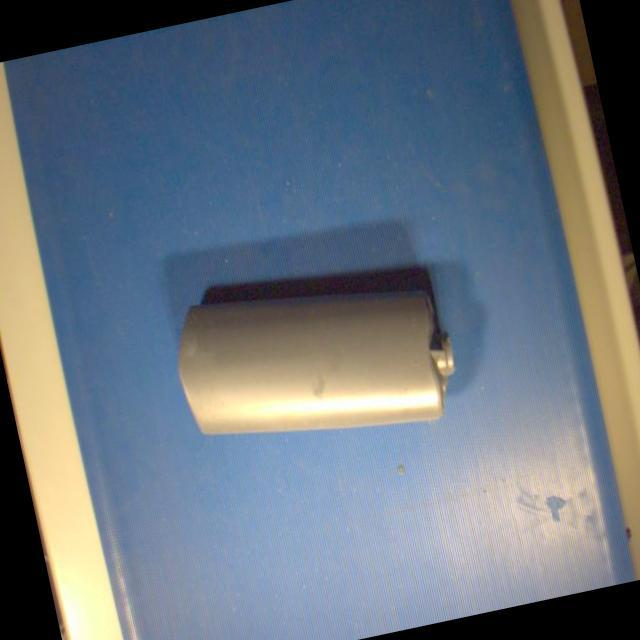HDPE Plastic: (177, 283, 458, 439)
